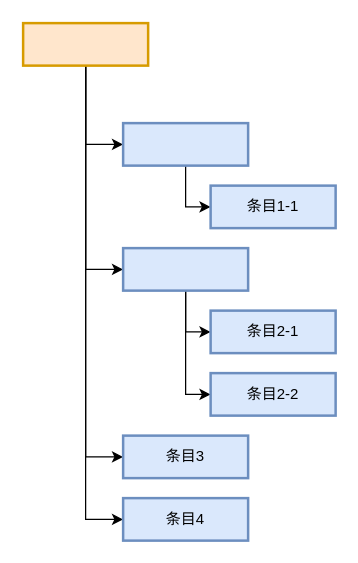
This 358x563 diagram has some shape labels left out. The shapes that lost their labels are listed below. From the top down, each one's centre as x and y in pixels, then its label:
the point at 85,43: 文档一
the point at 185,143: 条目1
the point at 185,268: 条目2
